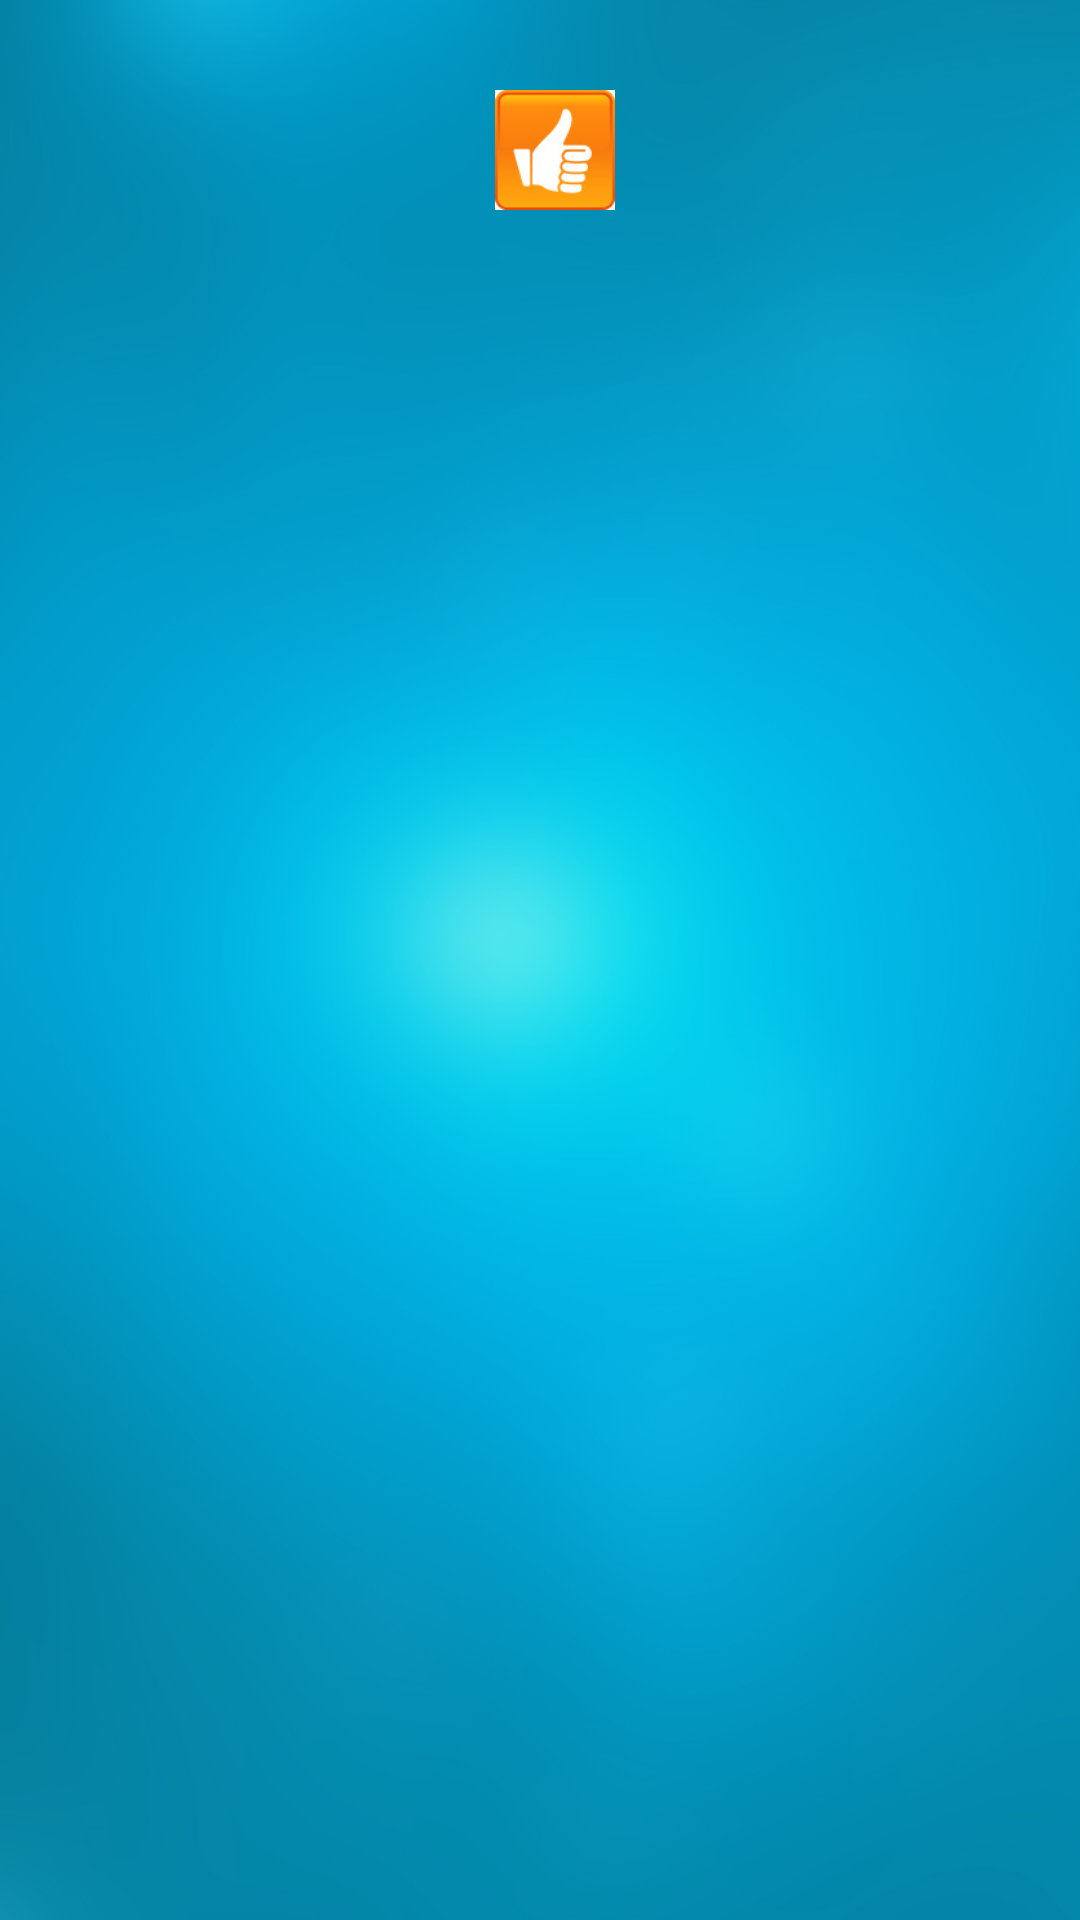

Screen size 1080*1920. Icon name, then its box in pixels as (x1, y1, x2, y2):
thumbsup: (495, 90, 615, 210)
